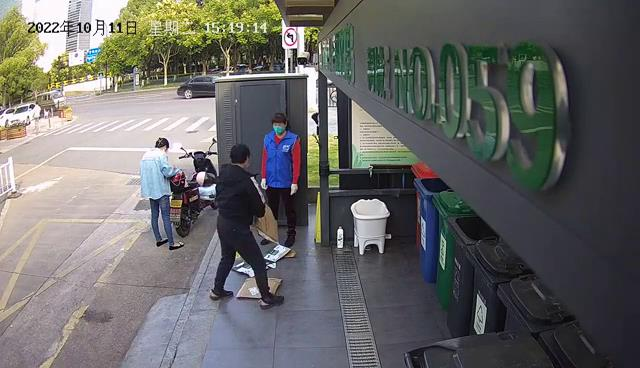person: (209, 142, 284, 309)
worker: (259, 112, 302, 248), (140, 137, 185, 251)
zhizhipin: (232, 245, 292, 275), (234, 278, 282, 300), (256, 203, 280, 245)
